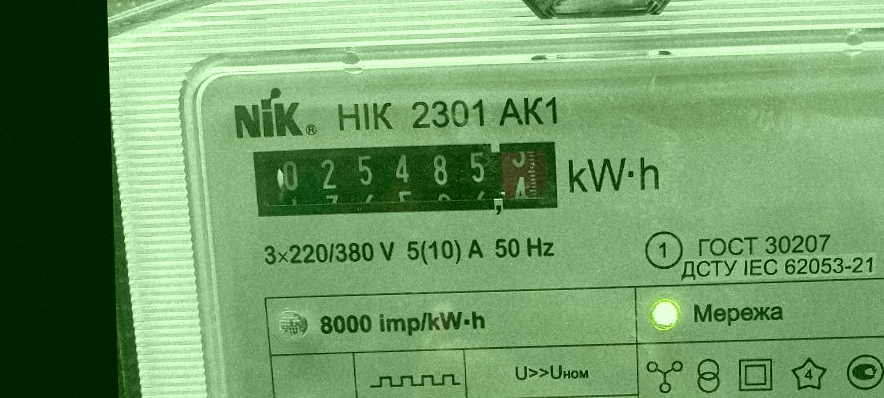0: (279, 157, 301, 192)
2: (318, 156, 339, 191)
4: (390, 150, 412, 185), (510, 173, 530, 202)
5: (465, 148, 487, 186), (353, 151, 374, 187)
8: (429, 149, 450, 188)
screen: (243, 133, 566, 228)
